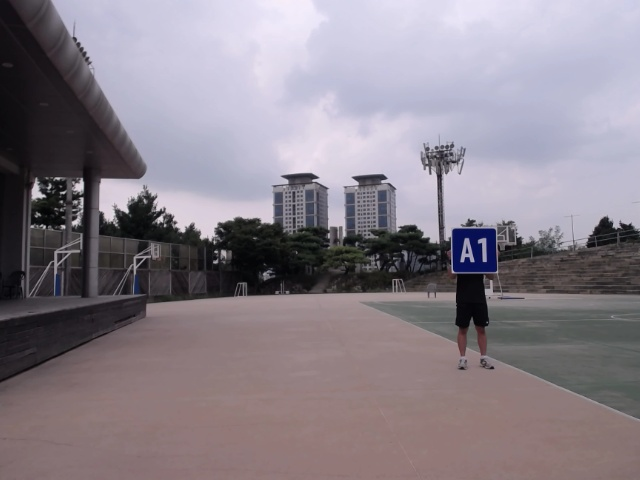delivery_a1: (451, 228, 497, 273)
